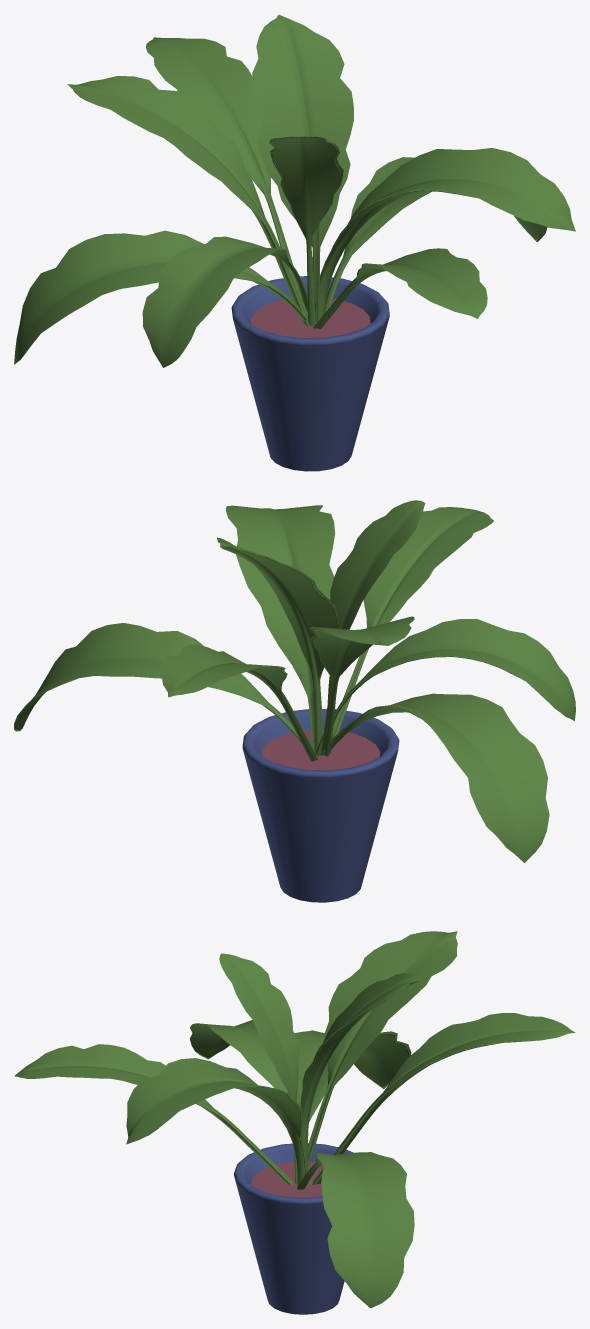
Rendered from testblomma.fbx.
The picture shows the model from 3 angles, top to bottom: view 1: azimuth 30°, elevation 25°; view 2: azimuth 150°, elevation 25°; view 3: azimuth 270°, elevation 25°; orthographic projection. The views are drawn at different scales.
Visible parts, largest first — view 1: polySurface10, polySurface6, polySurface2, polySurface4, polySurface7, polySurface9, polySurface8, polySurface5, polySurface1, polySurface3; view 2: polySurface10, polySurface4, polySurface2, polySurface8, polySurface3, polySurface1, polySurface6, polySurface5, polySurface9, polySurface7; view 3: polySurface10, polySurface3, polySurface7, polySurface2, polySurface9, polySurface5, polySurface1, polySurface6, polySurface4, polySurface8.
Part boxes in pixels (left/top/right/bottom): polySurface10: left=231, top=276, right=389, bottom=471; polySurface6: left=251, top=14, right=353, bottom=322; polySurface2: left=314, top=148, right=575, bottom=322; polySurface4: left=14, top=230, right=308, bottom=364; polySurface7: left=67, top=76, right=309, bottom=326; polySurface9: left=146, top=37, right=301, bottom=298; polySurface8: left=142, top=236, right=307, bottom=367; polySurface5: left=269, top=136, right=343, bottom=325; polySurface1: left=313, top=248, right=487, bottom=329; polySurface3: left=325, top=157, right=547, bottom=312; polySurface10: left=242, top=709, right=399, bottom=902; polySurface4: left=319, top=693, right=549, bottom=862; polySurface2: left=226, top=505, right=335, bottom=751; polySurface8: left=316, top=619, right=575, bottom=756; polySurface3: left=14, top=623, right=301, bottom=742; polySurface1: left=331, top=507, right=493, bottom=750; polySurface6: left=217, top=537, right=340, bottom=754; polySurface5: left=327, top=500, right=425, bottom=702; polySurface9: left=159, top=644, right=318, bottom=761; polySurface7: left=310, top=616, right=414, bottom=756; polySurface10: left=234, top=1143, right=353, bottom=1314; polySurface3: left=297, top=1152, right=414, bottom=1308; polySurface7: left=308, top=931, right=457, bottom=1166; polySurface2: left=126, top=1058, right=305, bottom=1186; polySurface9: left=312, top=1013, right=575, bottom=1185; polySurface5: left=219, top=953, right=299, bottom=1183; polySurface1: left=14, top=1044, right=293, bottom=1185; polySurface6: left=300, top=973, right=420, bottom=1184; polySurface4: left=294, top=1030, right=411, bottom=1122; polySurface8: left=190, top=1020, right=311, bottom=1184.
Size of the model in its own units: 2.47 by 1.72 by 2.62.
